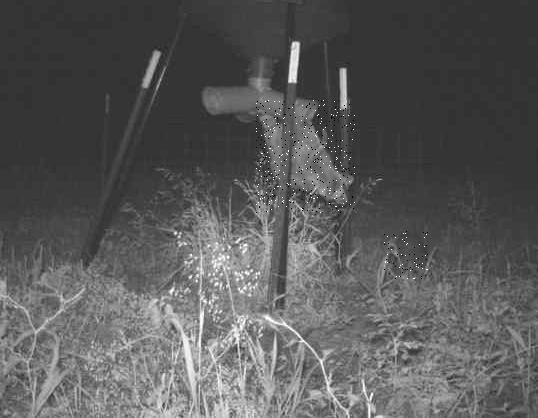Raccoon: (256, 101, 355, 214), (384, 231, 428, 279)
